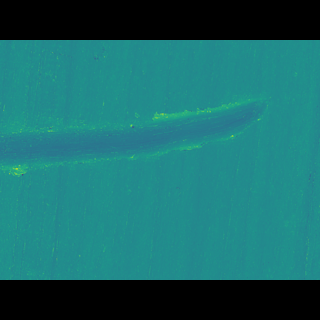Loch: (0, 109, 275, 173)
